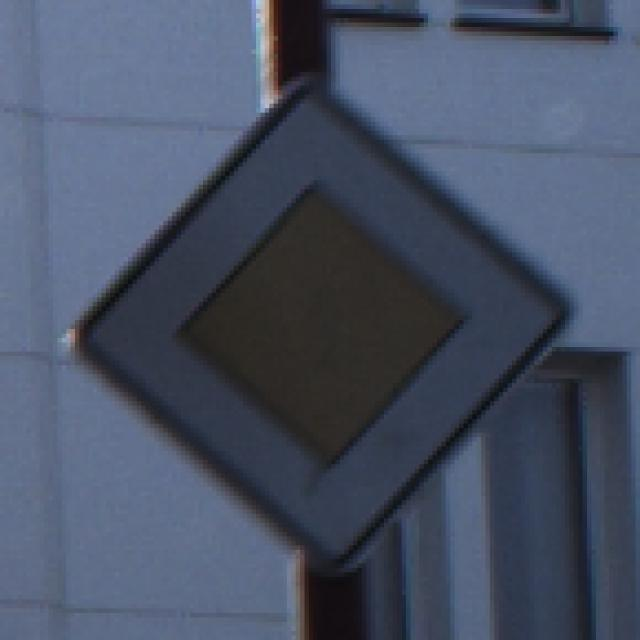Main Road: (54, 55, 588, 587)
